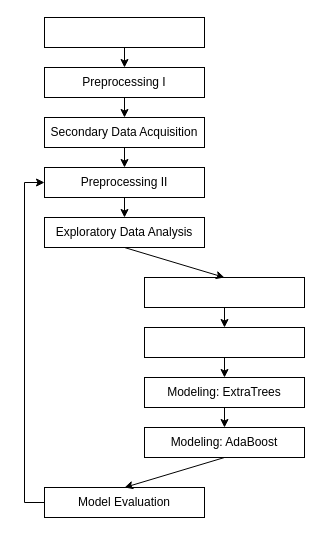
This 322x535 diagram has some shape labels left out. Each missing label, with the box of its shape:
Modeling: Linear Regression: (144, 276, 304, 308)
Modeling: XGBoost: (144, 326, 304, 358)
Primary Data Acquisition: (44, 16, 204, 48)
